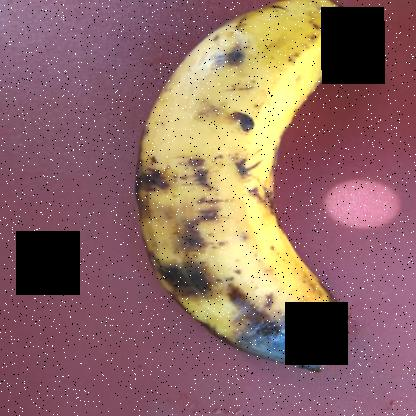overripe: (100, 1, 394, 265)
rotten: (105, 134, 380, 390)
